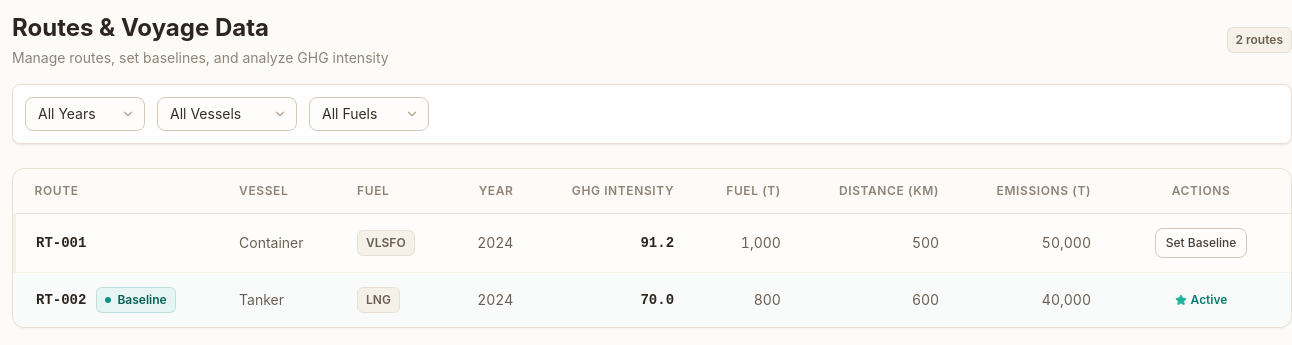
Test case: RoutesTab › filters routes by fuel type
This screenshot has width=1292, height=345.
expect the text "RT-001" is shown: met, box [36, 233, 86, 253]
// Filter by LNG (RT-001 is VLSFO, RT-002 is LNG)
Select "LNG" in the dropdown named "Filter by fuel type" at (369, 114), box [309, 97, 429, 131]
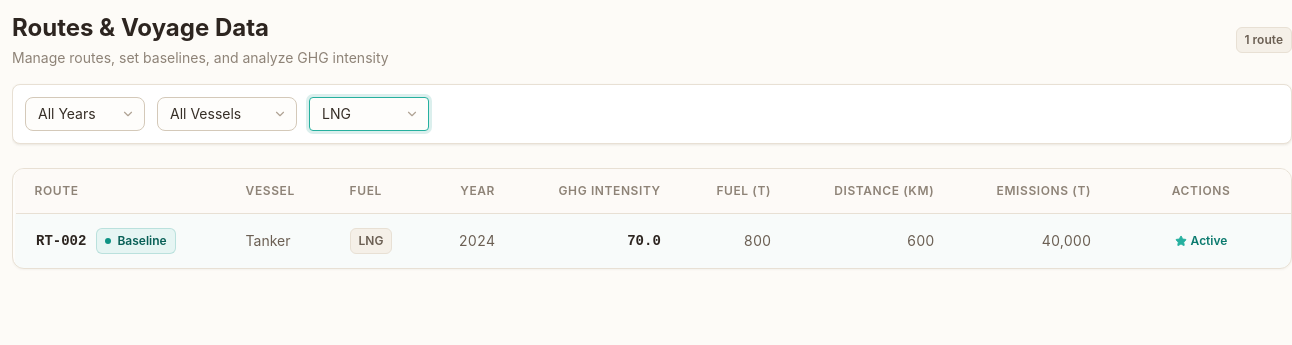
expect the text "RT-002" is shown: met, box [36, 231, 86, 251]
expect the text "RT-001" is gone: met
